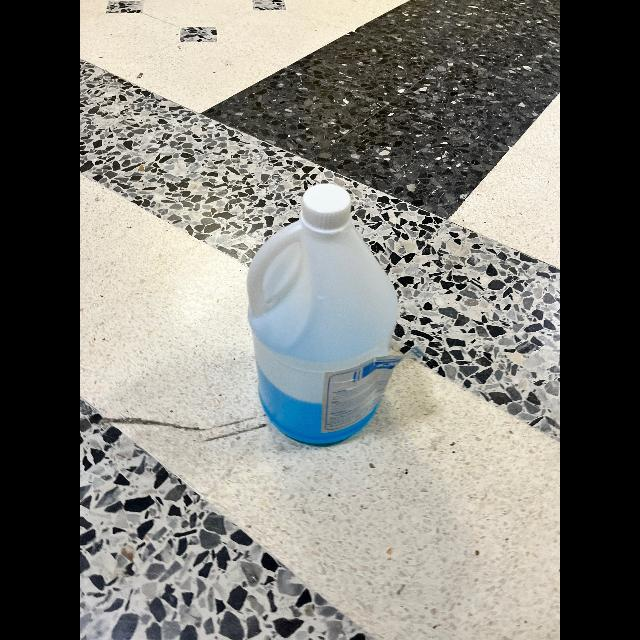chemical_plastic_gallon: (243, 180, 401, 446)
